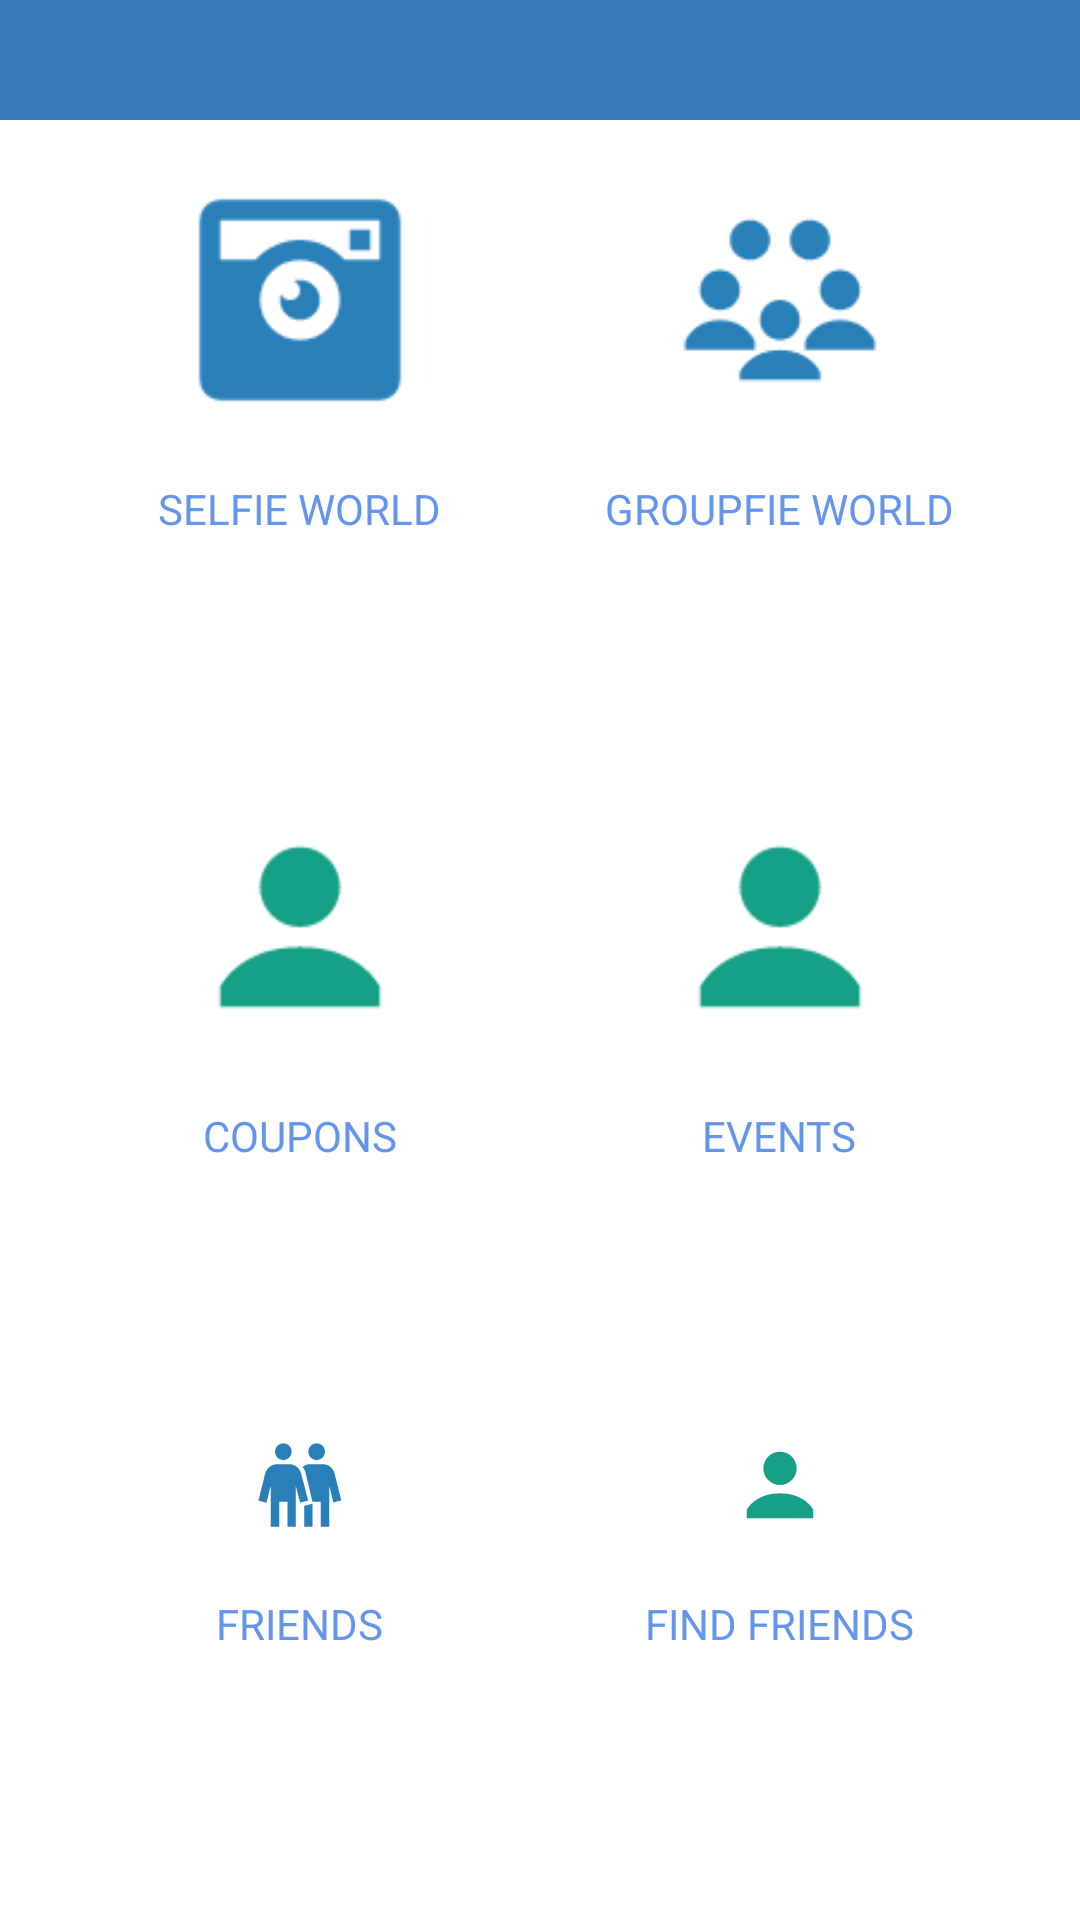

Icons on this 1080 x 1920 Android screen, each with its box as (x1, y1, x2, y2):
user: (218, 845, 382, 1009), (698, 845, 862, 1009), (746, 1451, 814, 1519)
